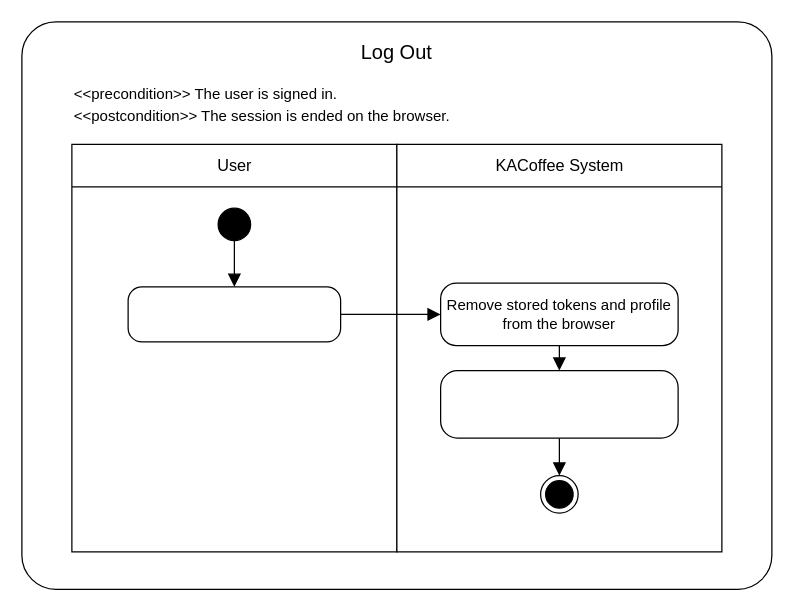
Image size: 794x611. Some labels were removed from this diagram. The centre of each missing label's shape, as x and y in pixels:
"Select “Log Out”" goes at pixel 234 314.
"Show the signed-out header; protected pages redirect to sign-in" goes at pixel 558 403.
